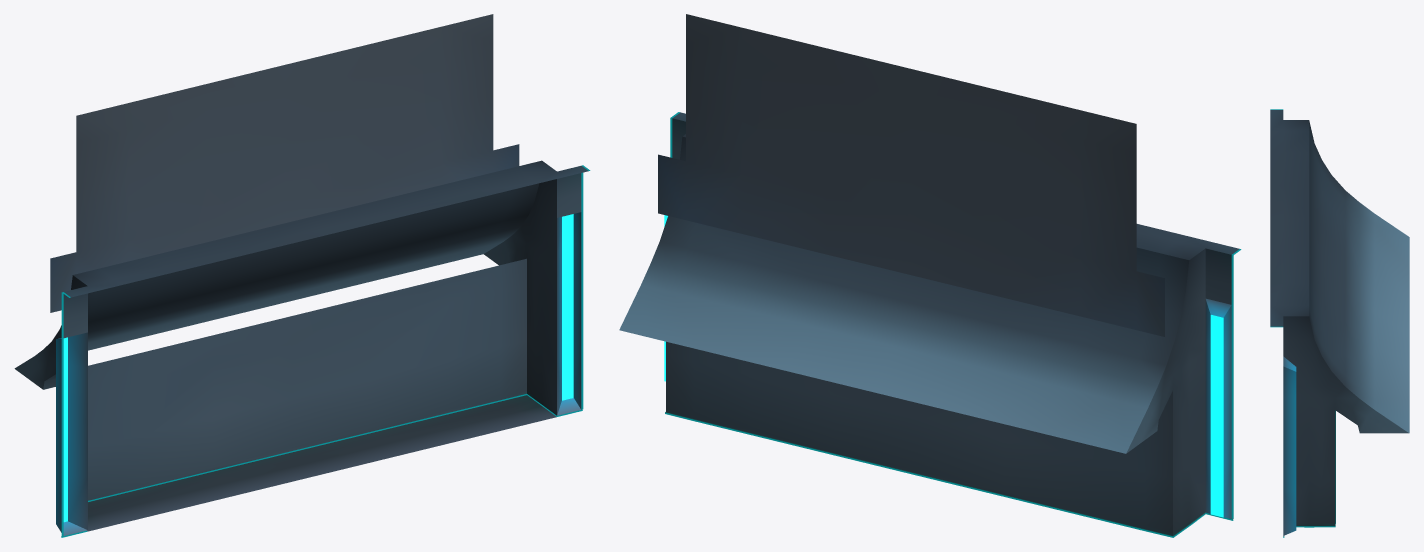
The model's file is Hallway-left.fbx.
3 renders of one model, left to right at view 1: azimuth 30°, elevation 25°; view 2: azimuth 150°, elevation 25°; view 3: azimuth 270°, elevation 25°, orthographic. The views are drawn at different scales.
Parts seen in each view (by area): view 1: Room.182; view 2: Room.182; view 3: Room.182.
Boxes of the visible parts, box(x1,y1,x2,y2) form: Room.182: box(14, 14, 590, 537); Room.182: box(619, 14, 1241, 537); Room.182: box(1270, 109, 1409, 537).
Size of the model in its own units: 2000 by 1400 by 539.
